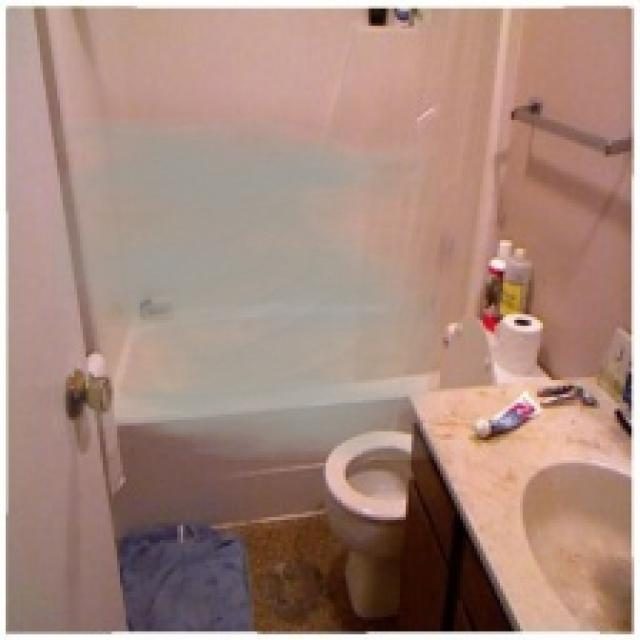smoke: (51, 117, 440, 460)
